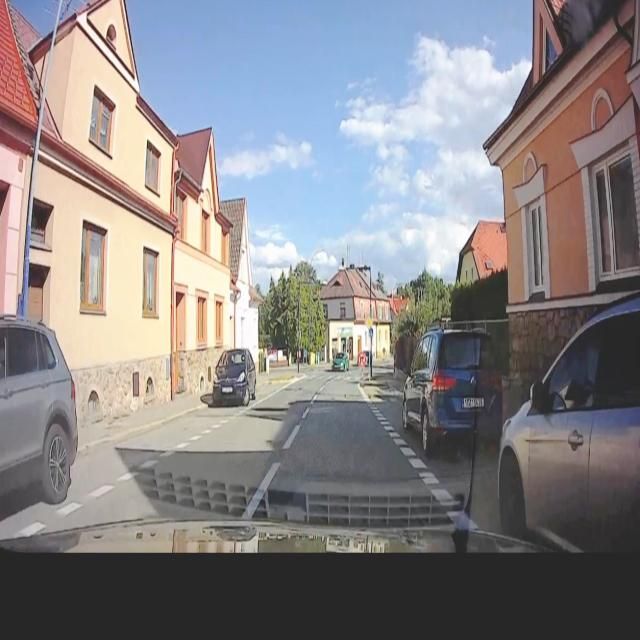Priority road: (366, 316, 373, 329)
